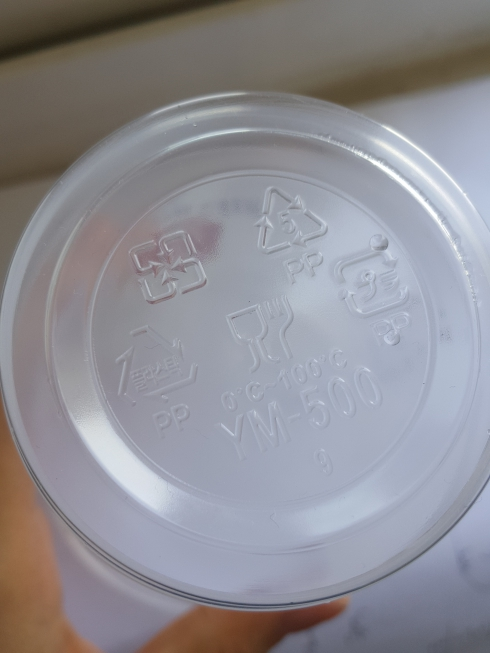recycle: (247, 182, 334, 284)
